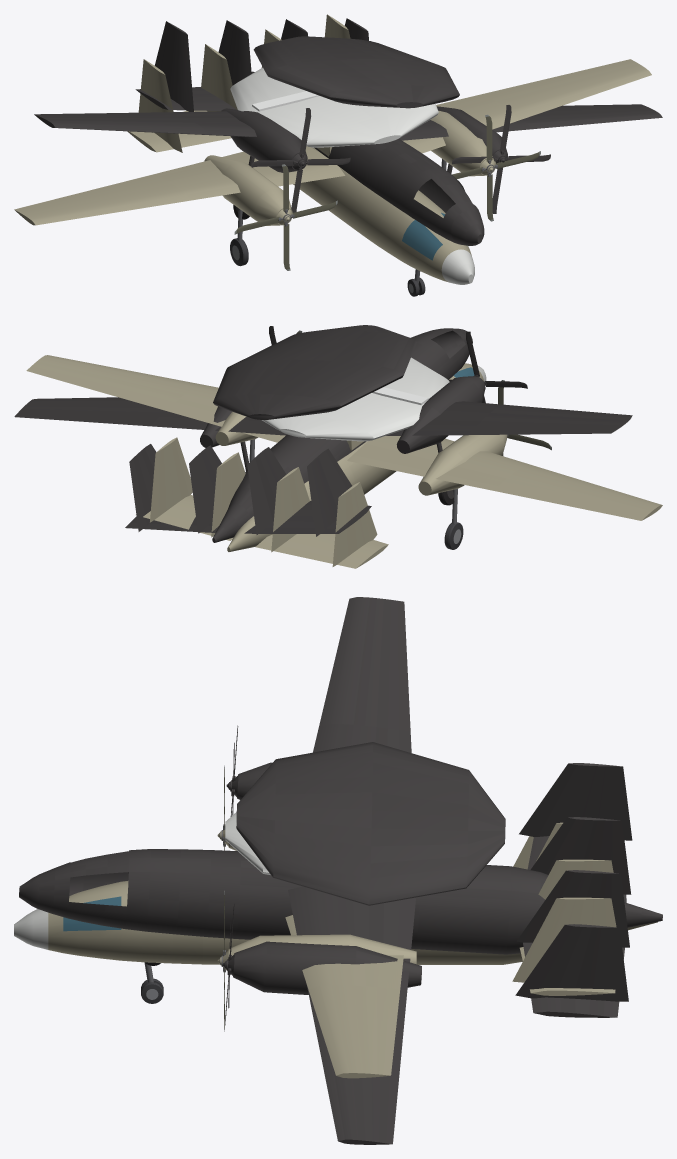
File: aewc__e_2c_hawkeye.glb
3 renders of one model, top to bottom at view 1: azimuth 30°, elevation 25°; view 2: azimuth 150°, elevation 25°; view 3: azimuth 270°, elevation 25°, orthographic. The views are drawn at different scales.
Visible parts, largest first — view 1: Wreck, Fuselage_Mesh, Radar_Mesh, Propeller_Mesh, Propeller_1_Mesh; view 2: Wreck, Fuselage_Mesh, Radar_Mesh, Propeller_Mesh; view 3: Wreck, Fuselage_Mesh, Radar_Mesh.
Boxes of the visible parts, x1,y1,x2,y2 form: Wreck: (34, 18, 662, 245); Fuselage_Mesh: (14, 14, 651, 296); Radar_Mesh: (230, 67, 438, 147); Propeller_Mesh: (234, 164, 337, 270); Propeller_1_Mesh: (452, 114, 540, 221); Wreck: (14, 325, 632, 542); Fuselage_Mesh: (26, 355, 662, 568); Radar_Mesh: (262, 357, 449, 441); Propeller_Mesh: (498, 380, 551, 455); Wreck: (19, 597, 662, 1144); Fuselage_Mesh: (14, 822, 657, 1078); Radar_Mesh: (225, 812, 270, 874).
Size of what is drawn, in the model's own units: 25.04 by 6.89 by 17.67.
